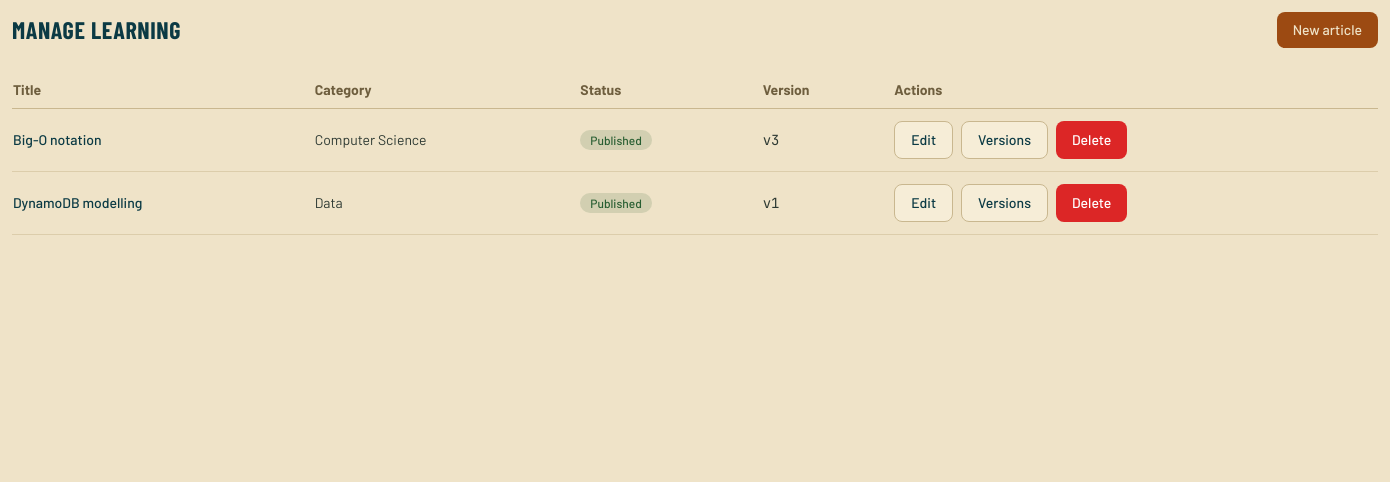
Test case: AdminLearning › toggles the version history for an article
The width and height of the screenshot is (1390, 482).
Expected: the text "Big-O notation" is shown, [12,108,314,172]
Click the button with aria-label "Versions of Big-O notation".
click(1005, 140)  # box [961,121,1048,159]
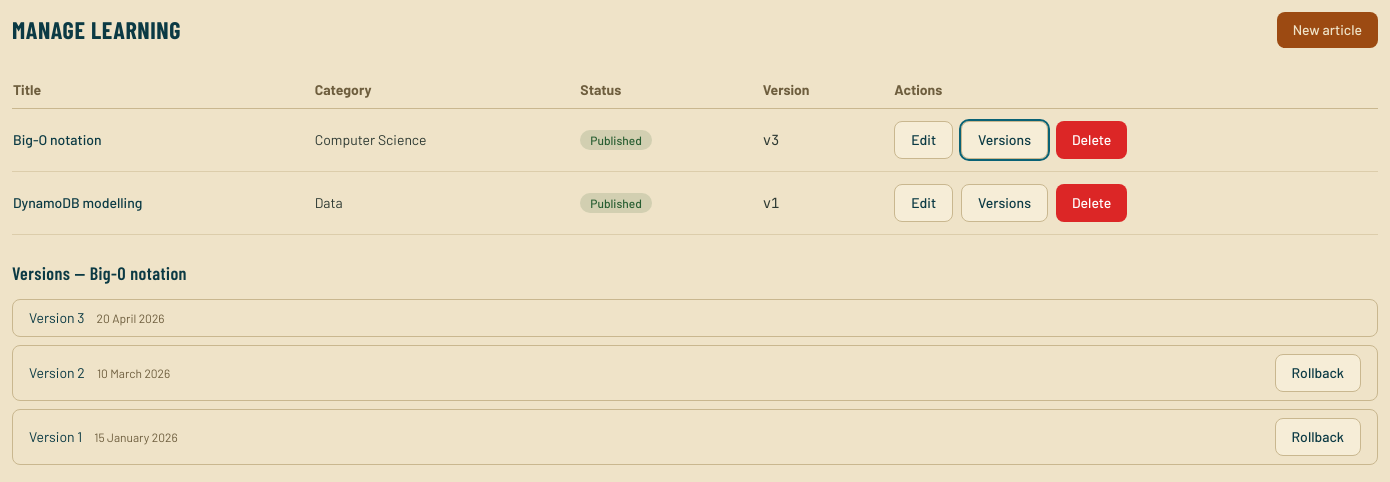
Result: the text "Version 1" is shown at [29,428,82,445]
Result: the text "Version 2" is shown at [29,364,85,381]
Click the button with aria-label "Versions of Big-O notation".
click(1005, 140)  # box [961,121,1048,159]
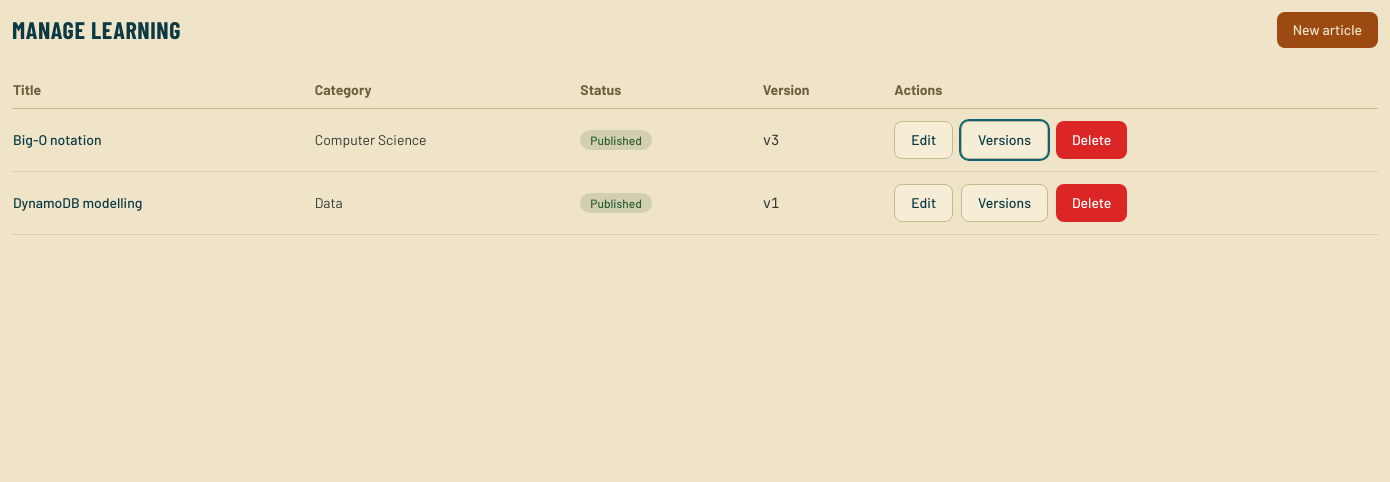
Result: the text "Version 1" is gone
